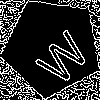W: (27, 22, 93, 88)
